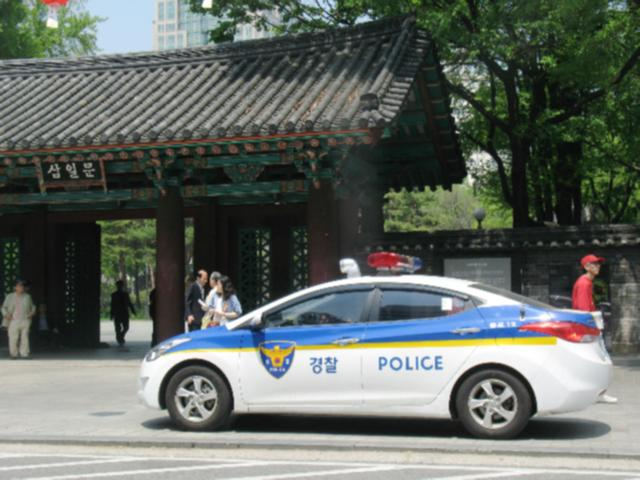police_car: (145, 249, 611, 439)
